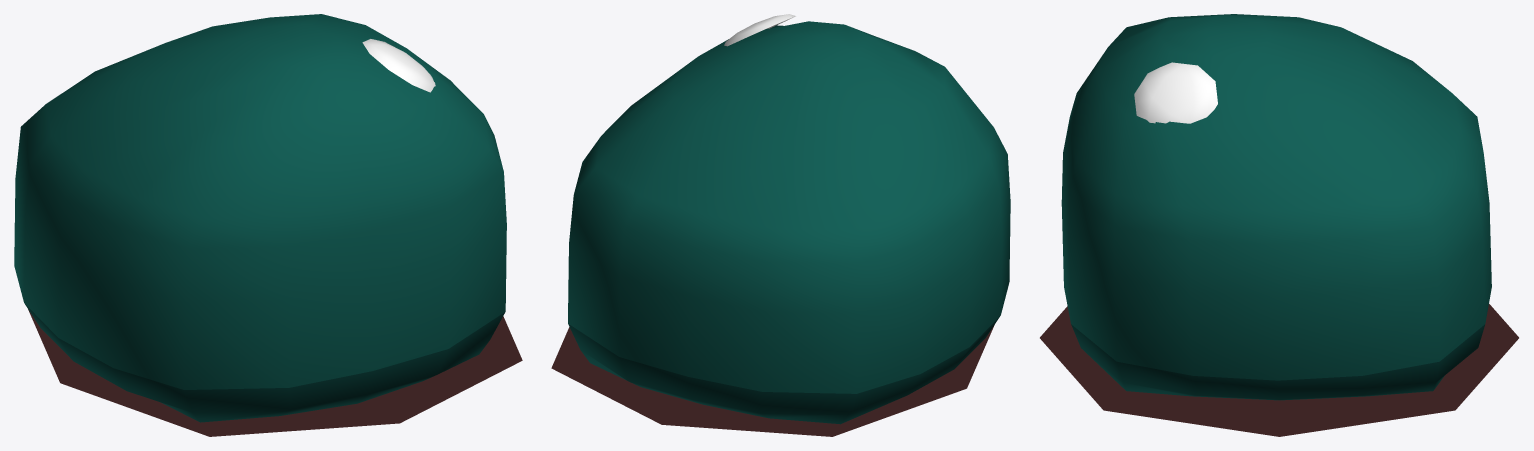
Rendered from Oozium238Mesh.TealGalaxy.glb.
The picture shows the model from 3 angles, left to right: view 1: azimuth 30°, elevation 25°; view 2: azimuth 150°, elevation 25°; view 3: azimuth 270°, elevation 25°; orthographic projection. The views are drawn at different scales.
Parts seen in each view (by area): view 1: Oozium238Mesh.TealGalaxy; view 2: Oozium238Mesh.TealGalaxy; view 3: Oozium238Mesh.TealGalaxy.
Boxes of the visible parts, bbox=[...] form: Oozium238Mesh.TealGalaxy: bbox=[14, 14, 522, 436]; Oozium238Mesh.TealGalaxy: bbox=[551, 14, 1010, 436]; Oozium238Mesh.TealGalaxy: bbox=[1040, 14, 1518, 436].
Bounding box in the file's own units: 2.04 × 1.44 × 2.07.
Materials: 1 (1 with a texture image).
